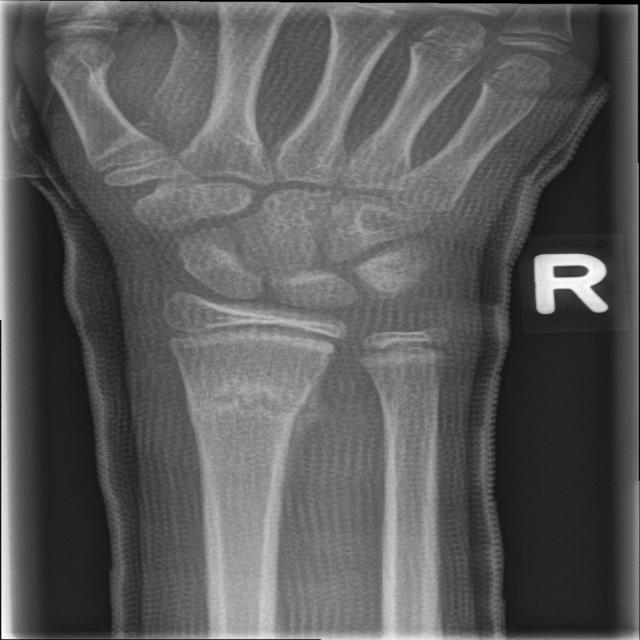radius fracture: (181, 362, 309, 457)
